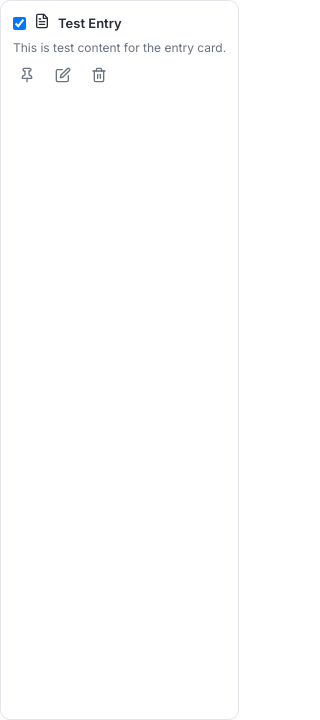
Test: KnowledgeBankEntryCard › shows inline confirmation when delete is clicked
What coordinates should you click on to do the following:
click the button named "Delete entry"
I would click on:
 (99, 76)
Its box is [85, 65, 113, 88].
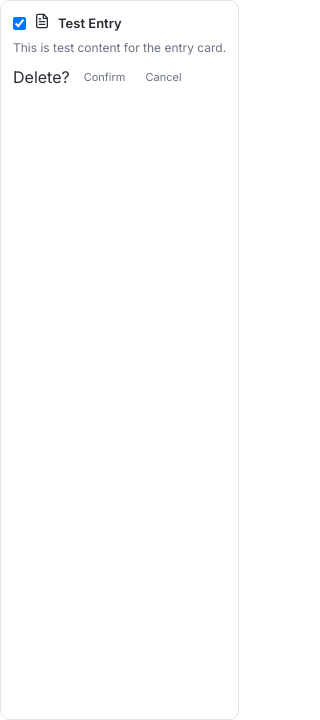
Expected: the text "Delete?" is shown, [13, 65, 70, 89]
Expected: the button "Confirm" is shown, [78, 65, 132, 89]
Expected: the button "Cancel" is shown, [140, 65, 188, 89]
